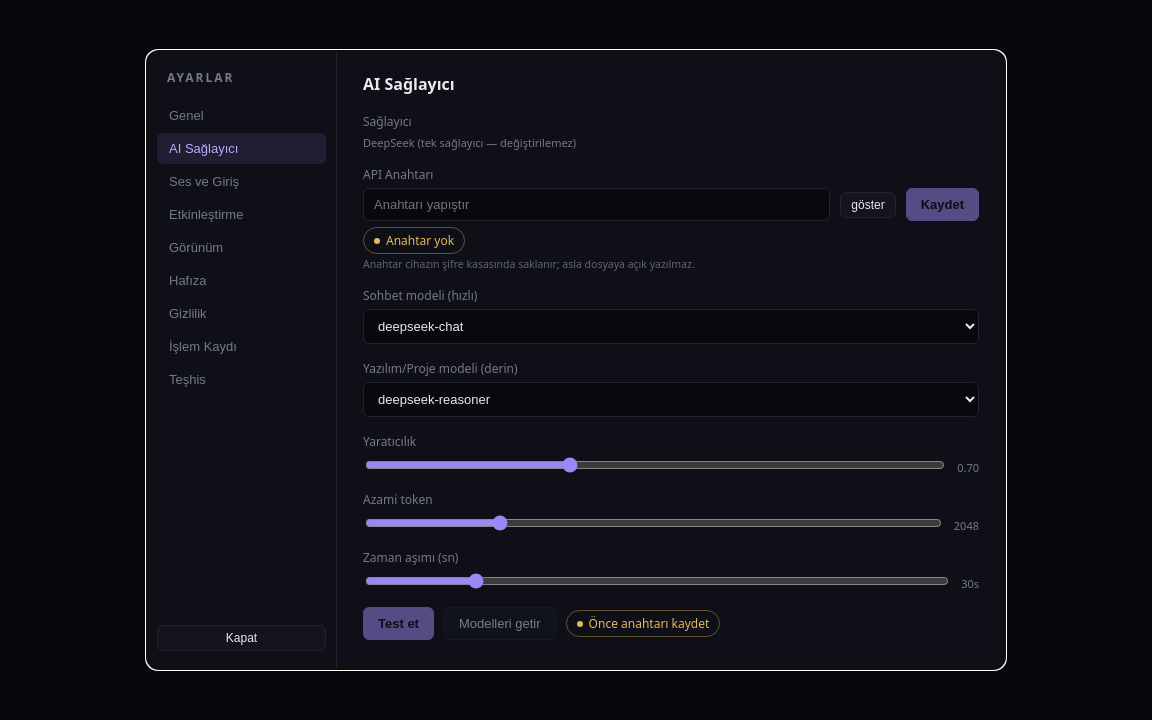
Test: SettingsPanel — mikrofon testi ve kademeli ayarlar › ses bölümünde yeni kontroller görünür
Click the button "Ses ve Giriş" at (242, 182), box [157, 166, 326, 197]
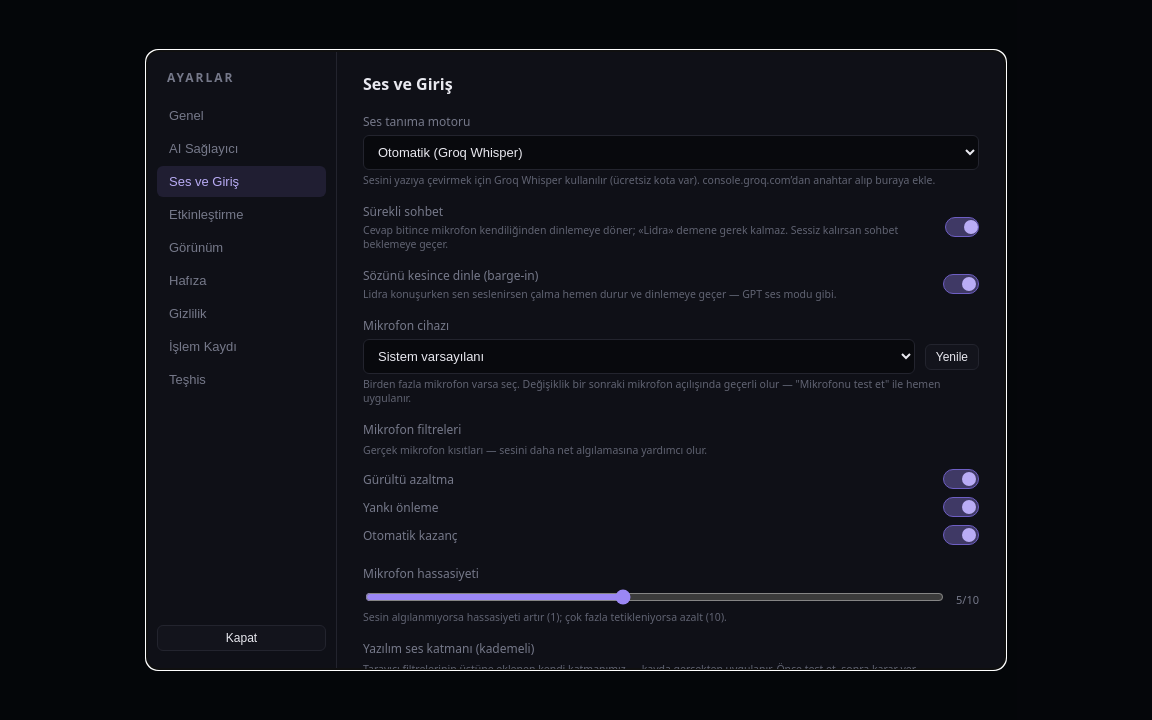
Expected: the text "Mikrofon cihazı" is shown, [363, 317, 449, 334]
